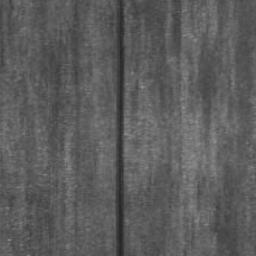Scratches: (114, 0, 125, 256)
